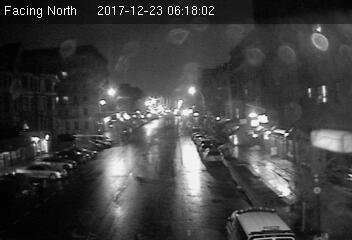car: (202, 147, 225, 164)
police: (227, 207, 294, 240)
